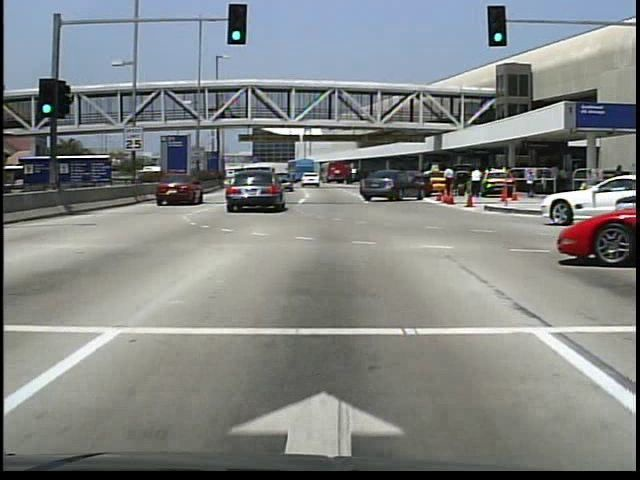person: (441, 167, 459, 204), (467, 169, 483, 202), (521, 169, 537, 201), (218, 103, 227, 122)
